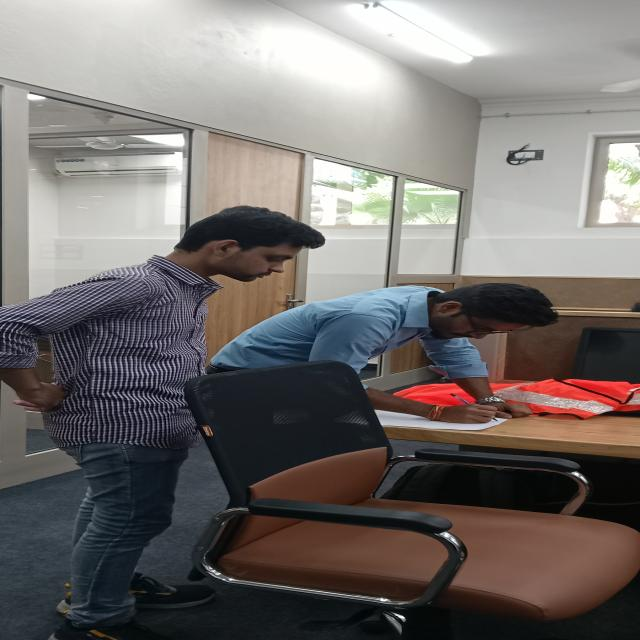unsafe: (0, 203, 329, 640), (200, 282, 560, 481)
